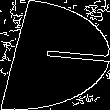L_W: (8, 35, 102, 75)
